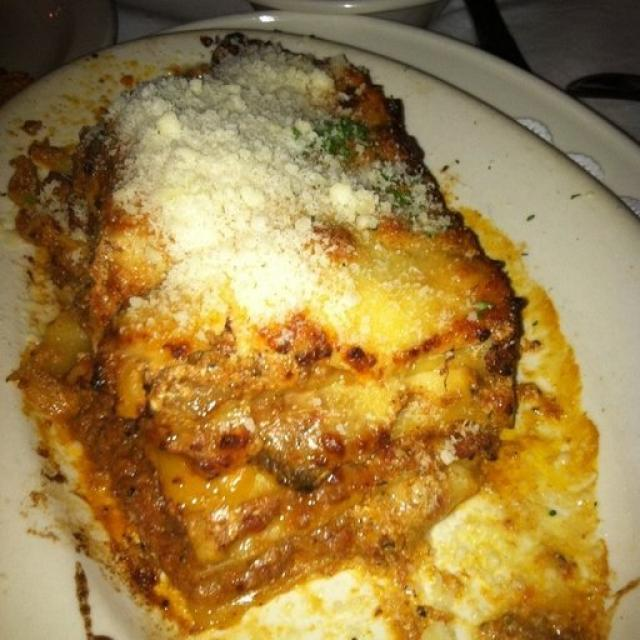Lasagna: (31, 50, 551, 611)
